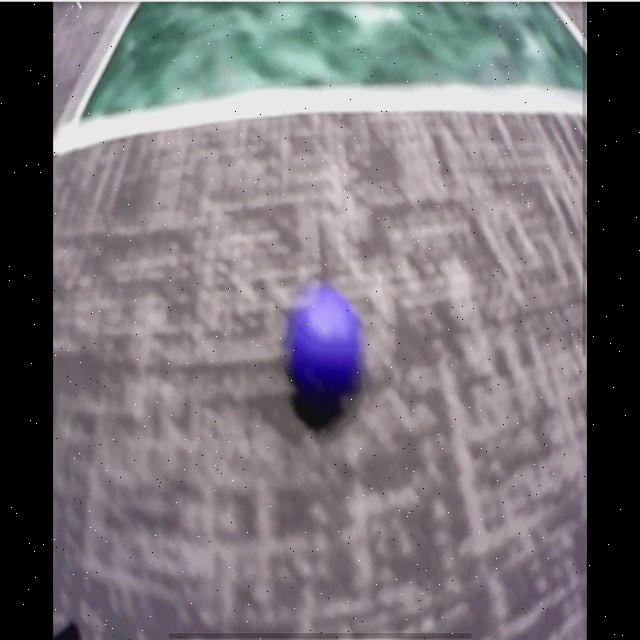ball: (288, 294, 362, 400)
